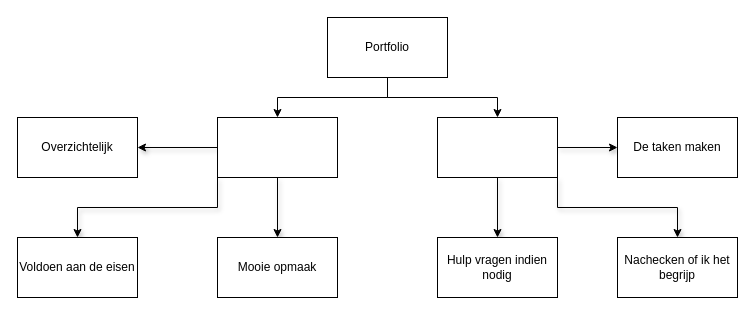
This 755x315 diagram has some shape labels left out. The shapes that lost their labels are listed below. From the top down, each one's centre as x and y in pixels, then its label:
point (277, 147): Website
point (497, 147): Voorbereiding
